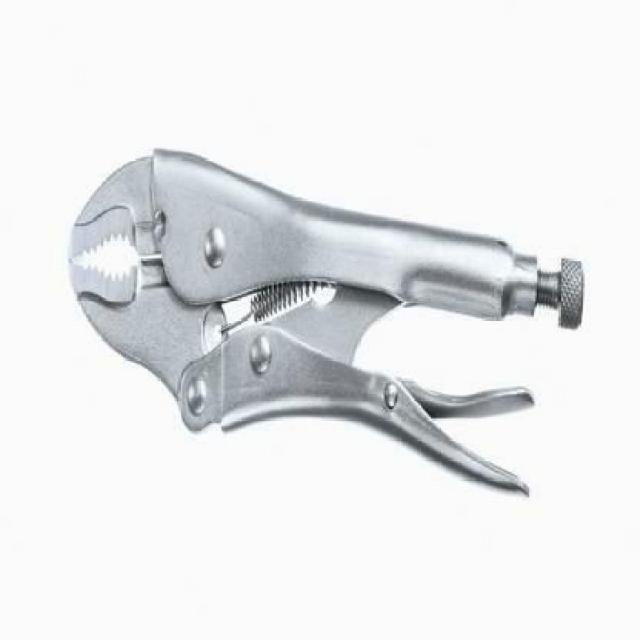pliers: (69, 138, 592, 504)
